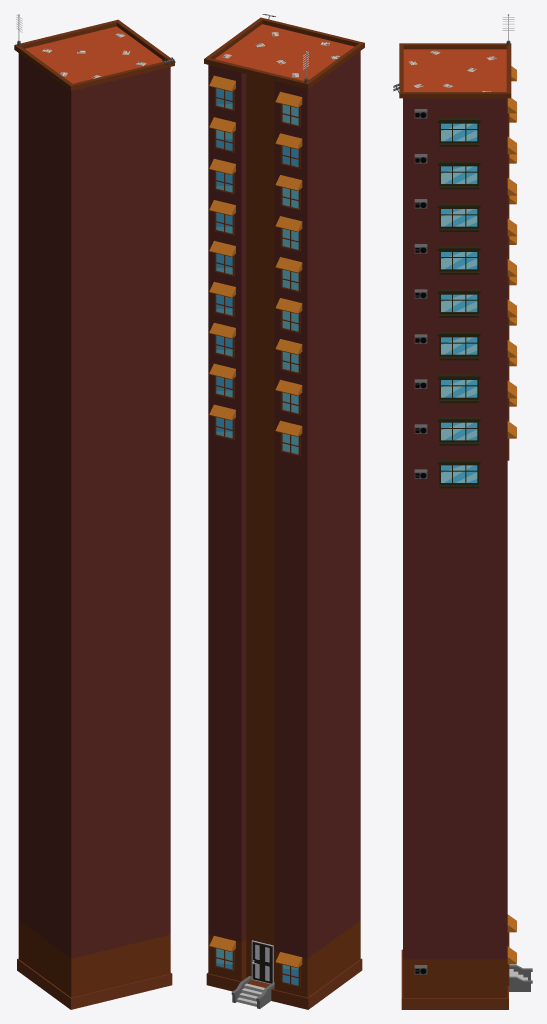
The model's file is Building.fbx.
The picture shows the model from 3 angles, left to right: view 1: azimuth 30°, elevation 25°; view 2: azimuth 150°, elevation 25°; view 3: azimuth 270°, elevation 25°; orthographic projection.
Parts seen in each view (by area): view 1: Building; view 2: Building; view 3: Building.
Boxes of the visible parts, x1=… form: Building: x1=14, y1=14, x2=175, y2=1009; Building: x1=204, y1=14, x2=364, y2=1009; Building: x1=393, y1=14, x2=532, y2=1009.
Bounding box in the file's own units: 1766 × 14999 × 2002.
